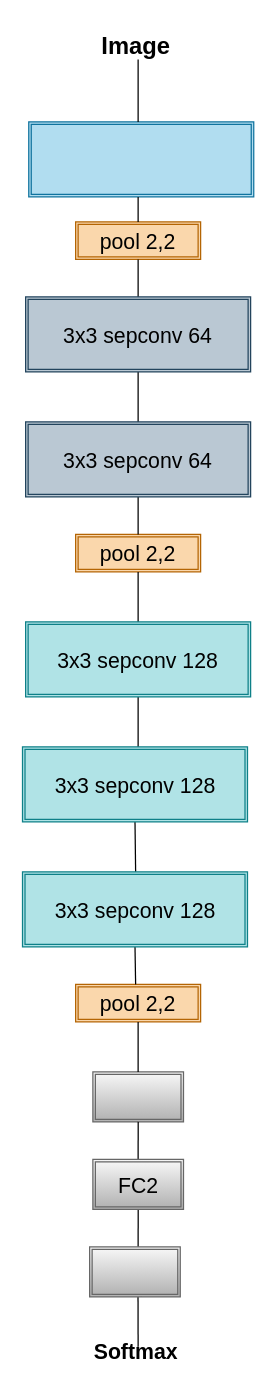
Image size: 275x1393. Some labels were removed from this diagram. The box of each missing label's shape, as (x1, y1, x2, y2) in pixels:
3x3 sepconv 32: (28, 121, 254, 197)
FC1: (92, 1071, 184, 1122)
FC3: (88, 1246, 180, 1297)
